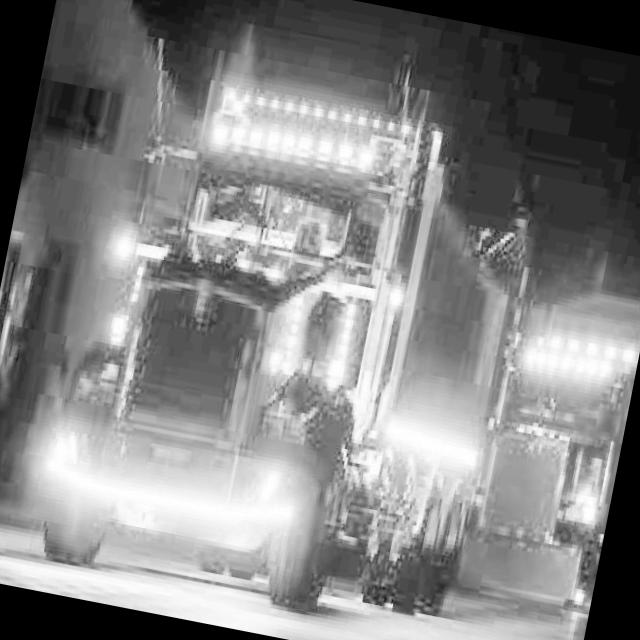Truck: (23, 13, 564, 640)
